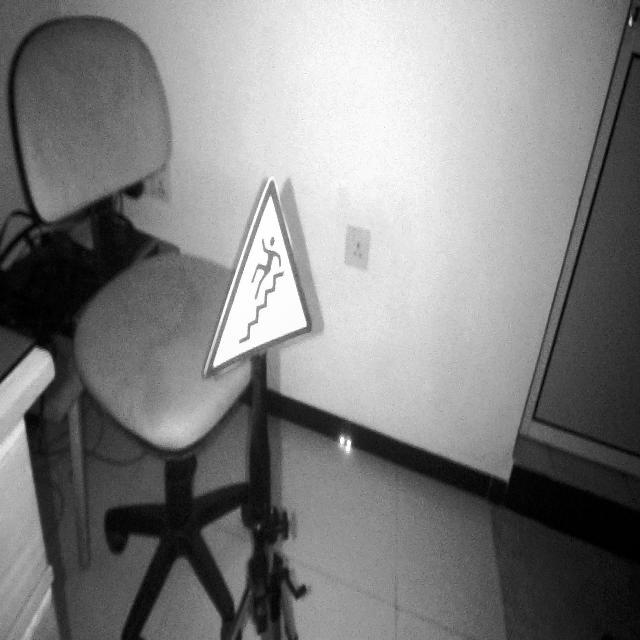Sign: (202, 175, 314, 383)
